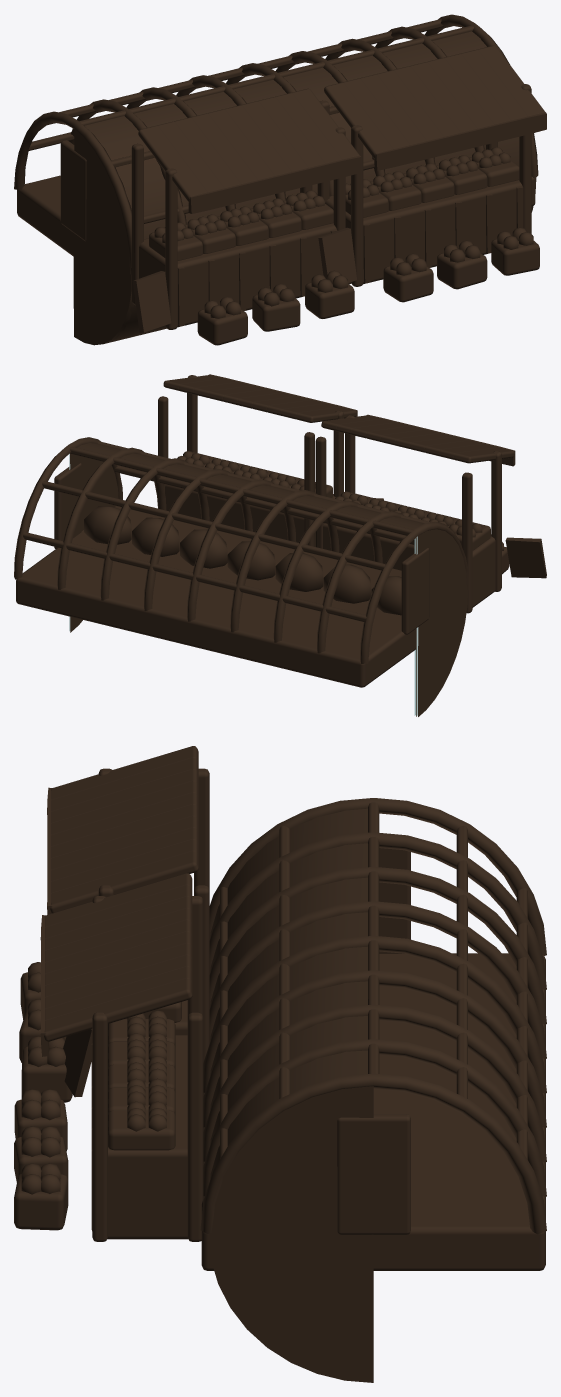
File: painted-market.glb
3 renders of one model, top to bottom at view 1: azimuth 30°, elevation 25°; view 2: azimuth 150°, elevation 25°; view 3: azimuth 270°, elevation 25°, orthographic. The views are drawn at different scales.
Parts seen in each view (by area): view 1: painted-market-outline; view 2: painted-market-outline, painted-market-kit; view 3: painted-market-outline.
Part boxes in pixels (box(x1,y1,x2,y2)): painted-market-outline: box(14, 14, 546, 345); painted-market-outline: box(14, 374, 546, 716); painted-market-kit: box(69, 453, 418, 715); painted-market-outline: box(14, 746, 546, 1382).
Size of the model in its own units: 5.85 by 3.16 by 4.25.
